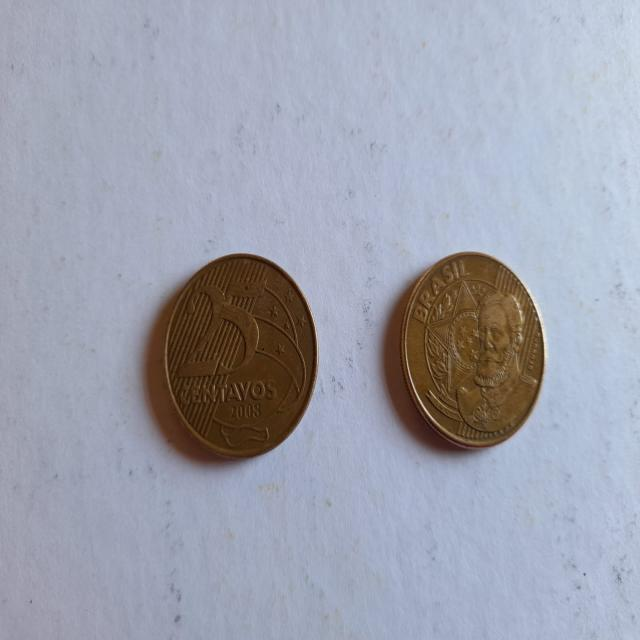25 cents: (144, 251, 330, 469), (398, 240, 552, 455)
